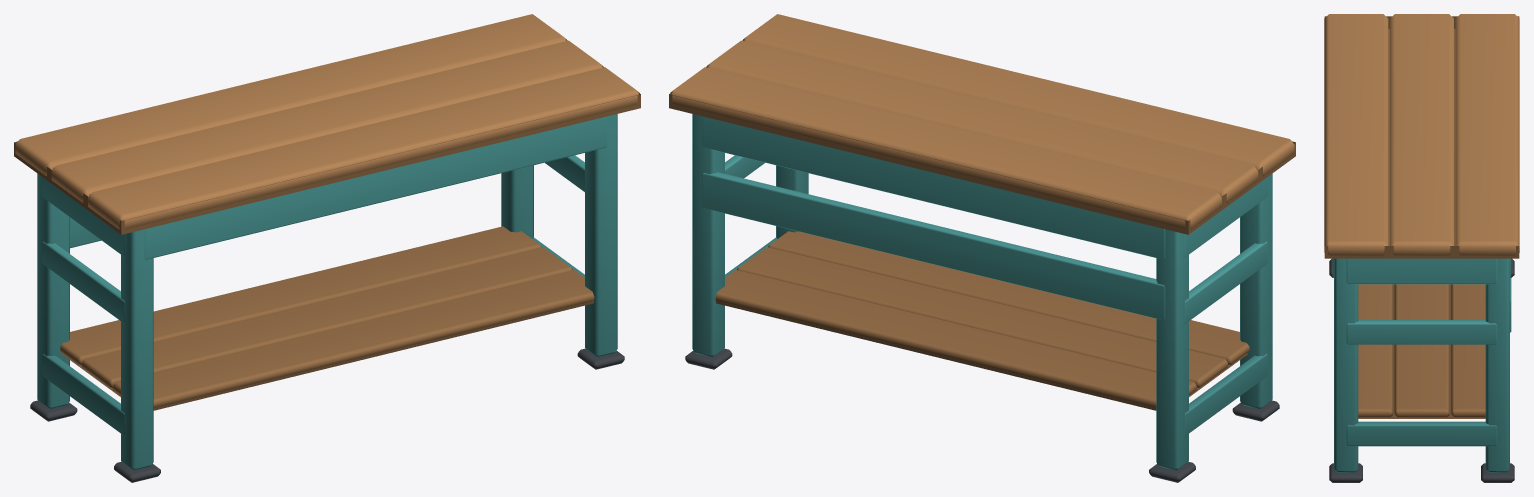
The model's file is Workbench_Wood_01.glb.
The picture shows the model from 3 angles, left to right: view 1: azimuth 30°, elevation 25°; view 2: azimuth 150°, elevation 25°; view 3: azimuth 270°, elevation 25°; orthographic projection. The views are drawn at different scales.
Parts seen in each view (by area): view 1: SM_Workbench_Wood_01; view 2: SM_Workbench_Wood_01; view 3: SM_Workbench_Wood_01.
Boxes of the visible parts, x1,y1,x2,y2 form: SM_Workbench_Wood_01: [14, 14, 640, 482]; SM_Workbench_Wood_01: [669, 14, 1295, 482]; SM_Workbench_Wood_01: [1324, 14, 1519, 482].
Size of the model in its own units: 1.8 by 0.9 by 0.644.
1 material, 1 textured.
